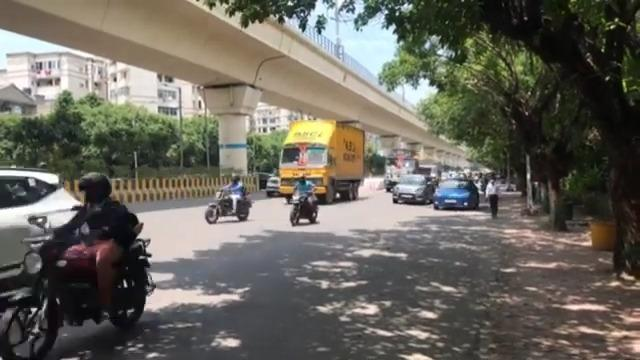Bike: (0, 171, 156, 359), (204, 172, 252, 224), (285, 174, 319, 226)
Truck: (276, 117, 366, 203)
